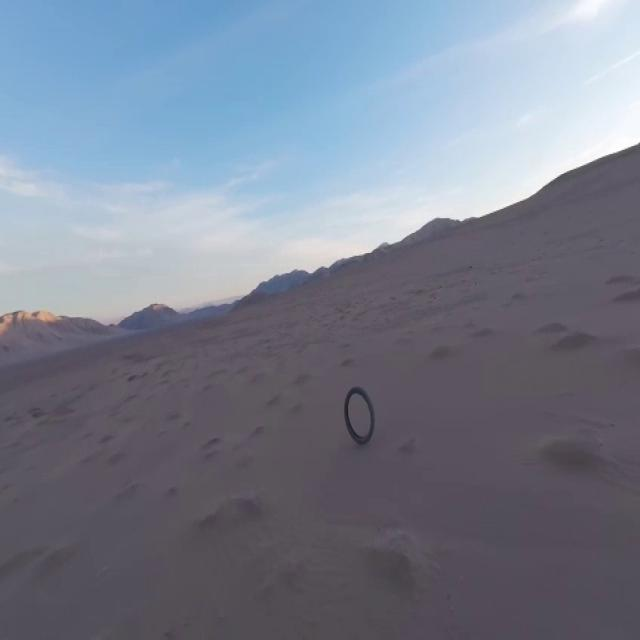Tire: (344, 387, 374, 443)
